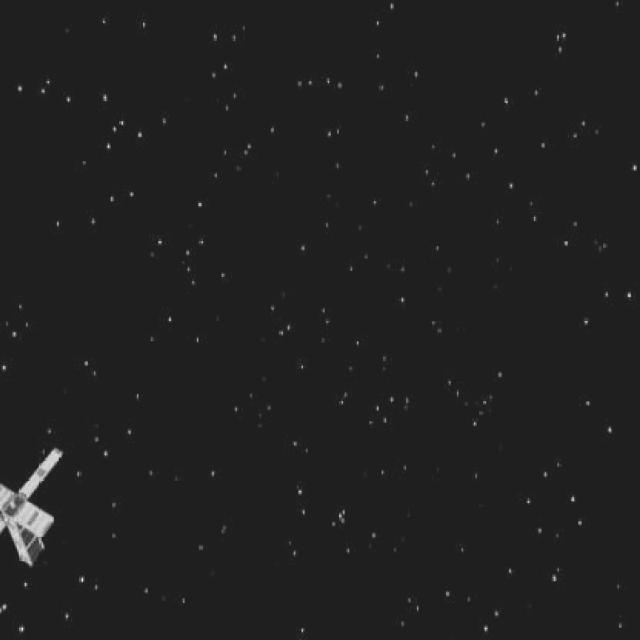medium_debris: (0, 446, 66, 592)
